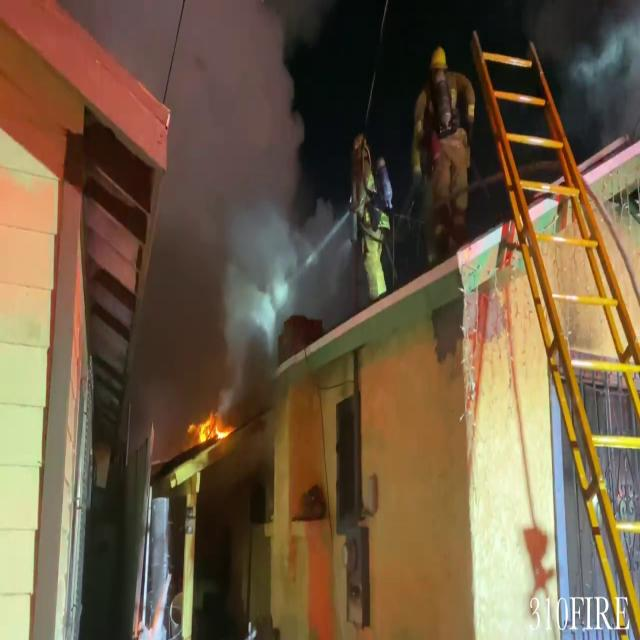Fire: (187, 402, 233, 458)
Smoke: (105, 0, 329, 388)
